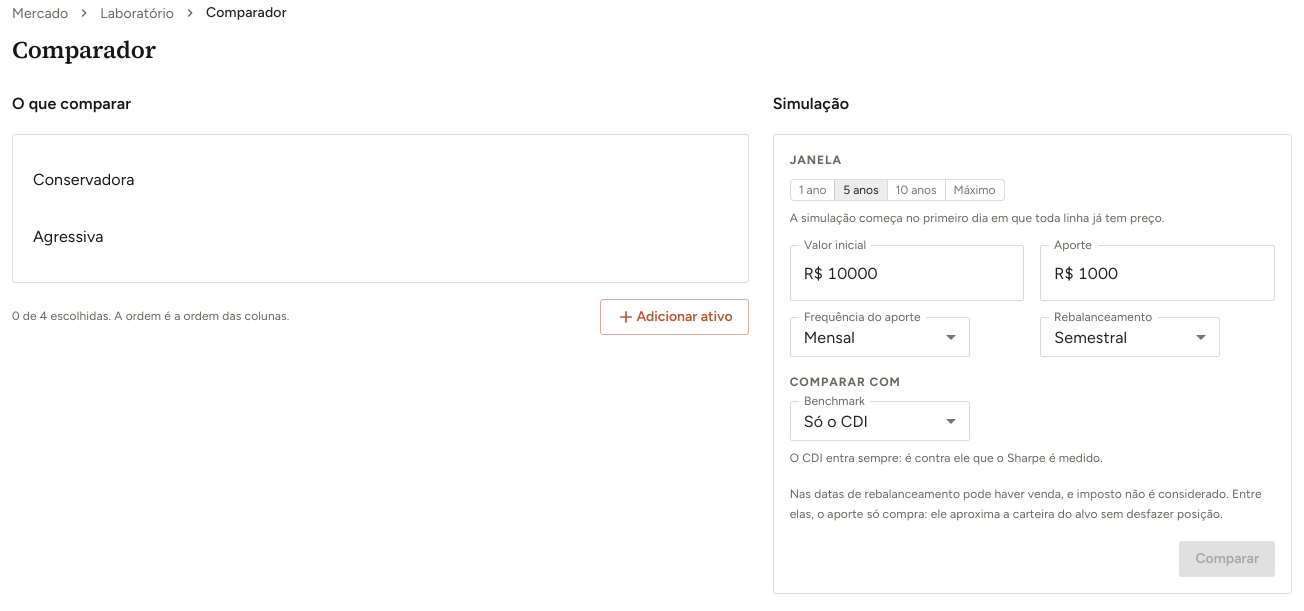
Scenario: MarketLaboratoryComparePage › opens the result in tabs instead of stacking it below
Expected: the heading "Comparador" is shown, [12,34,156,66]
What coordinates should you click on to do the following:
click the text "Conservadora"
I would click on:
 (84, 179)
Its box is [33,170,135,189].
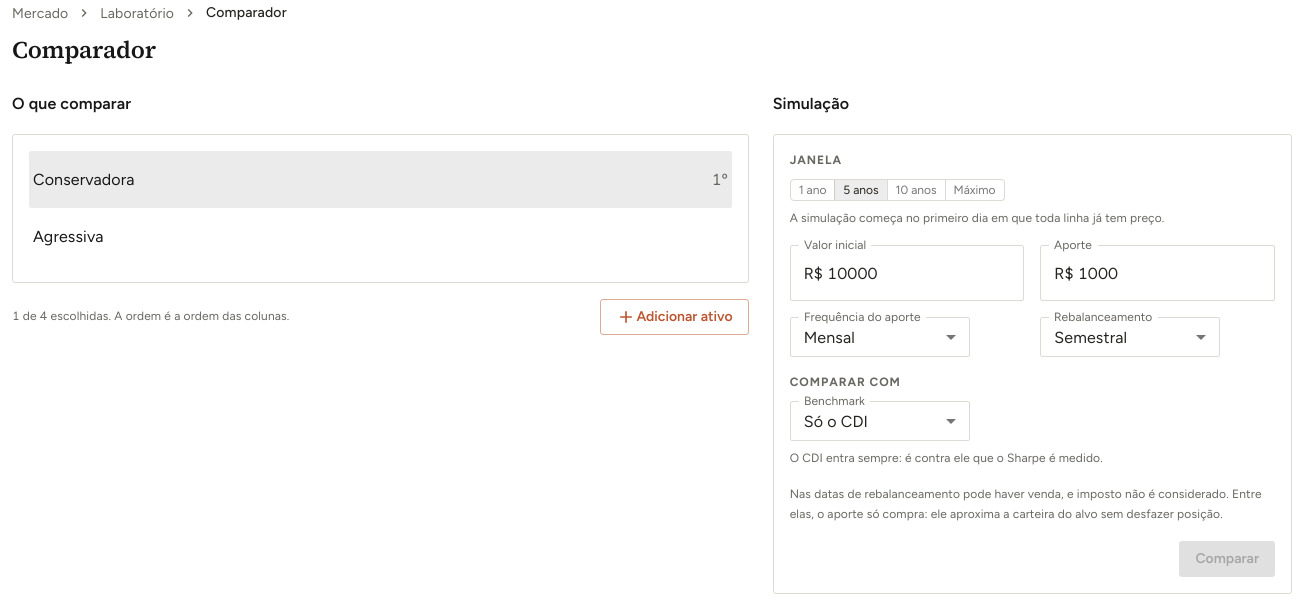
What coordinates should you click on to do the following:
click the text "Agressiva"
I would click on:
 (68, 237)
Its box is [33,227,104,246].
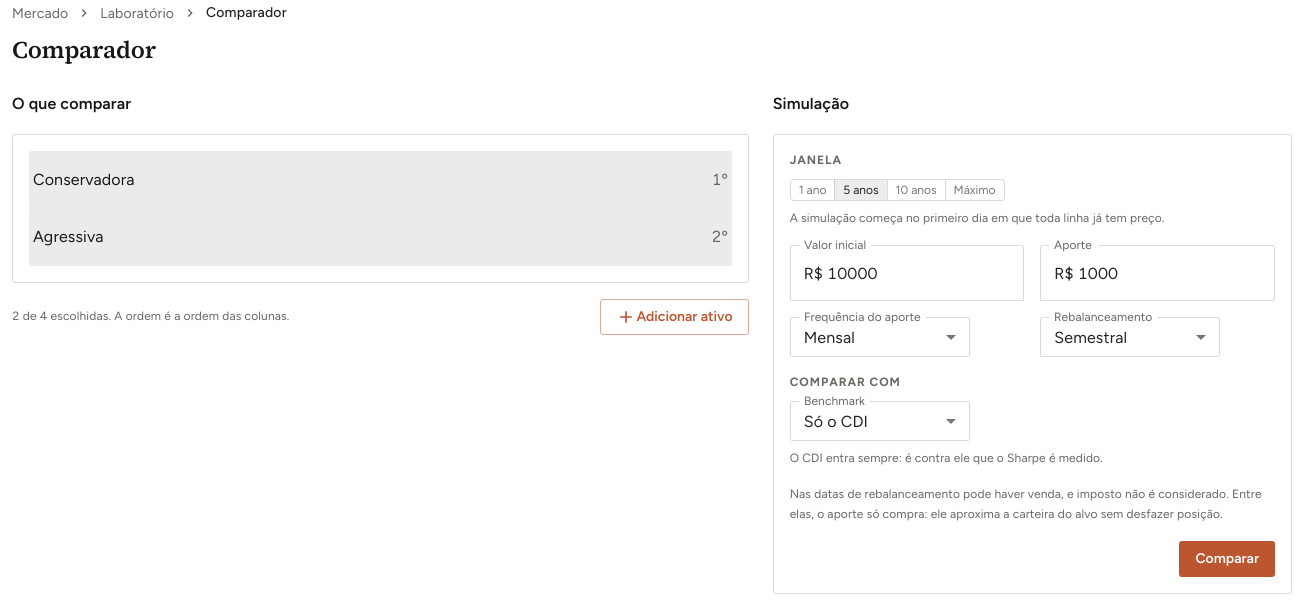
What coordinates should you click on to do the following:
click the button "Comparar"
I would click on:
 (1227, 559)
Its box is [1179,541,1275,577].
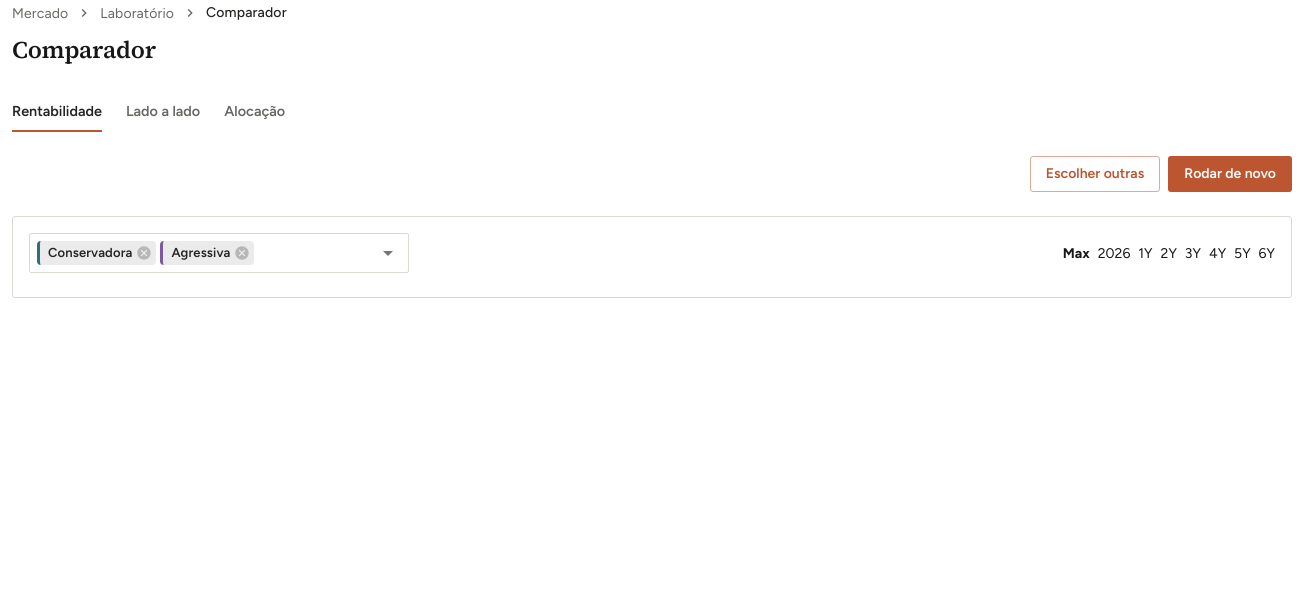
Expected: the tab "Rentabilidade" is shown, [12,90,102,132]
What coordinates should you click on to do the following:
click the tab "Lado a lado"
I would click on:
 (163, 111)
Its box is [126,90,200,132].
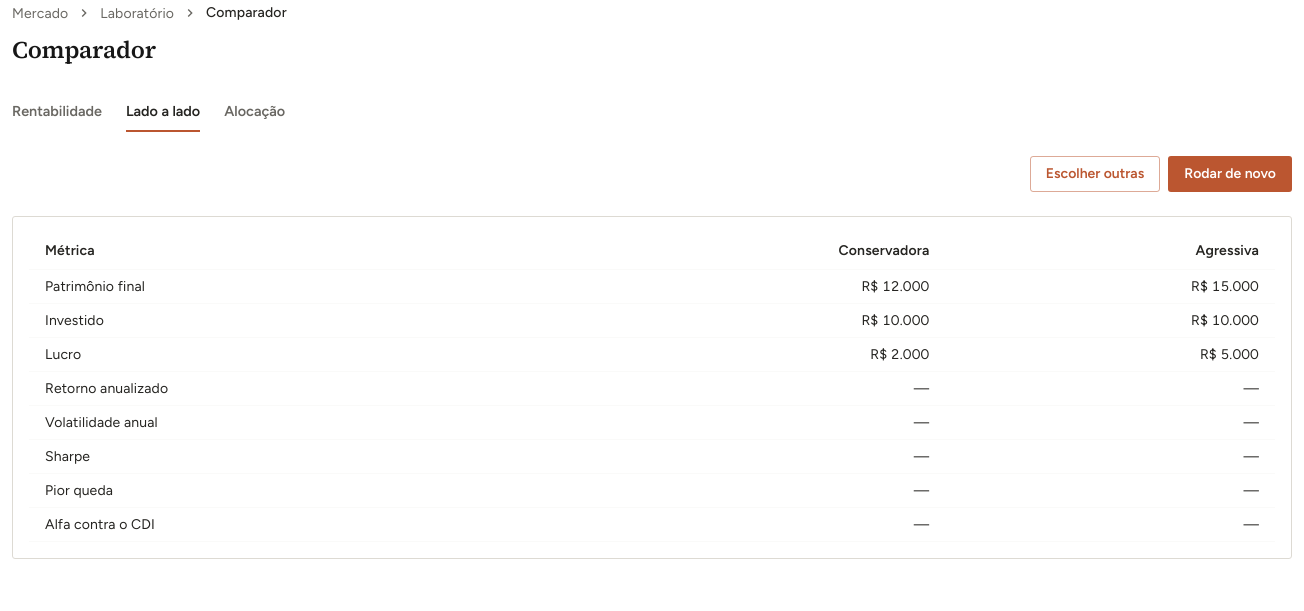
Expected: the text "Patrimônio final" is shown, [29,270,540,304]
